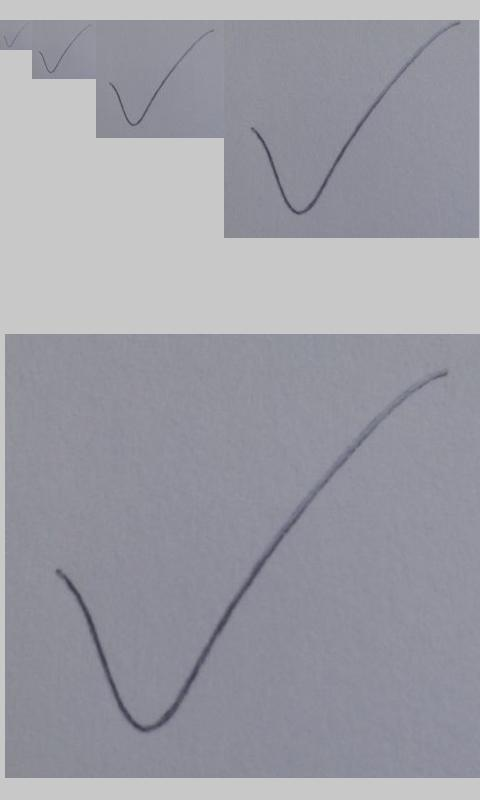check_box: (53, 370, 447, 733), (251, 23, 459, 215), (109, 29, 212, 126), (39, 26, 88, 74), (3, 23, 25, 48)
